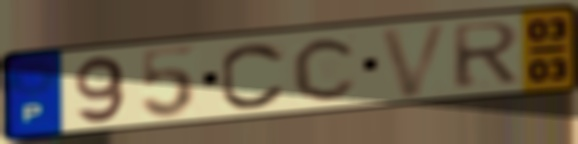5: (139, 42, 202, 121)
9: (71, 53, 128, 125)
C: (218, 40, 289, 111), (290, 35, 362, 104)
R: (449, 19, 524, 92)
V: (375, 19, 455, 101)
